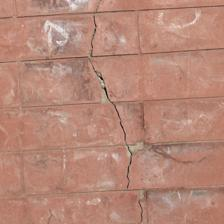Crack: (48, 31, 189, 163), (0, 98, 54, 126), (21, 198, 62, 221)
